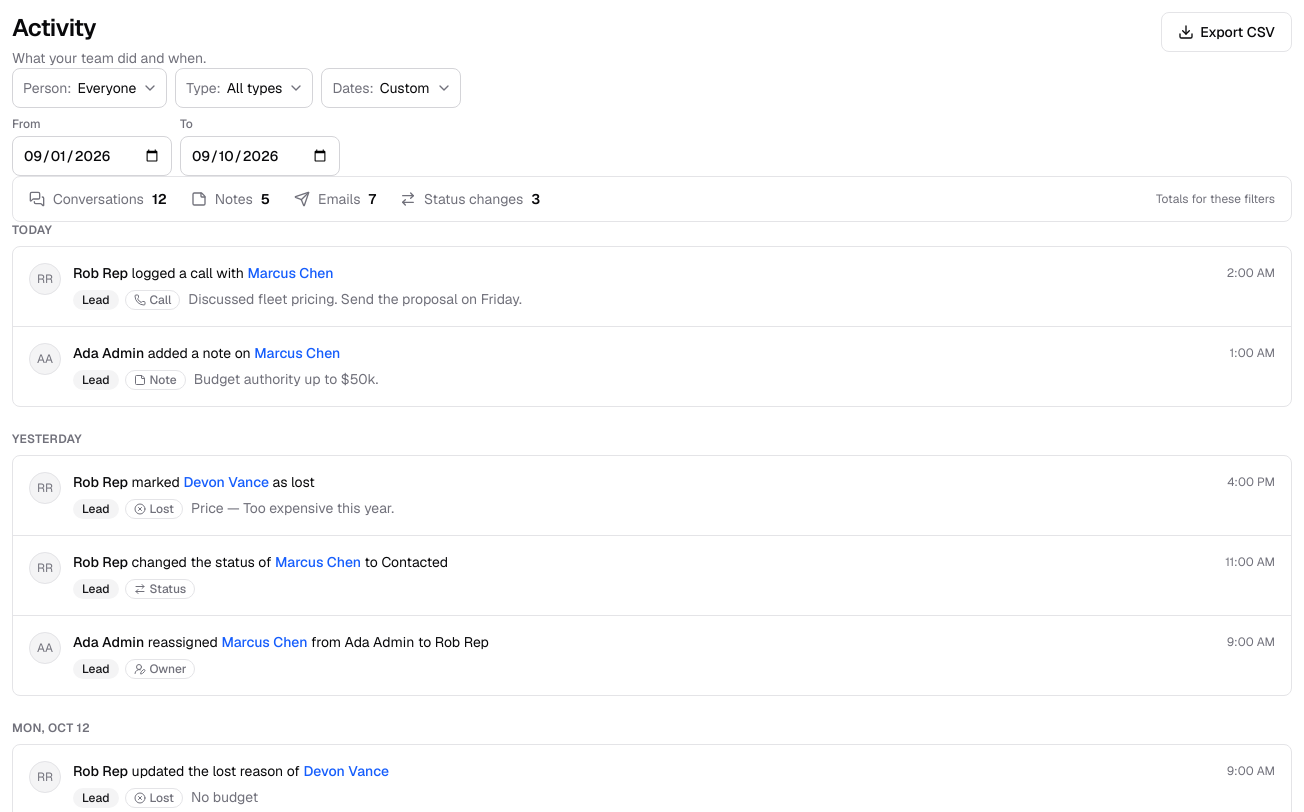
Test: ActivityPage › moves the other date along when the two would be the wrong way round
Type "2026-09-20" into the date field labelled "From". click: (92, 156)
box: [12,136,172,176]
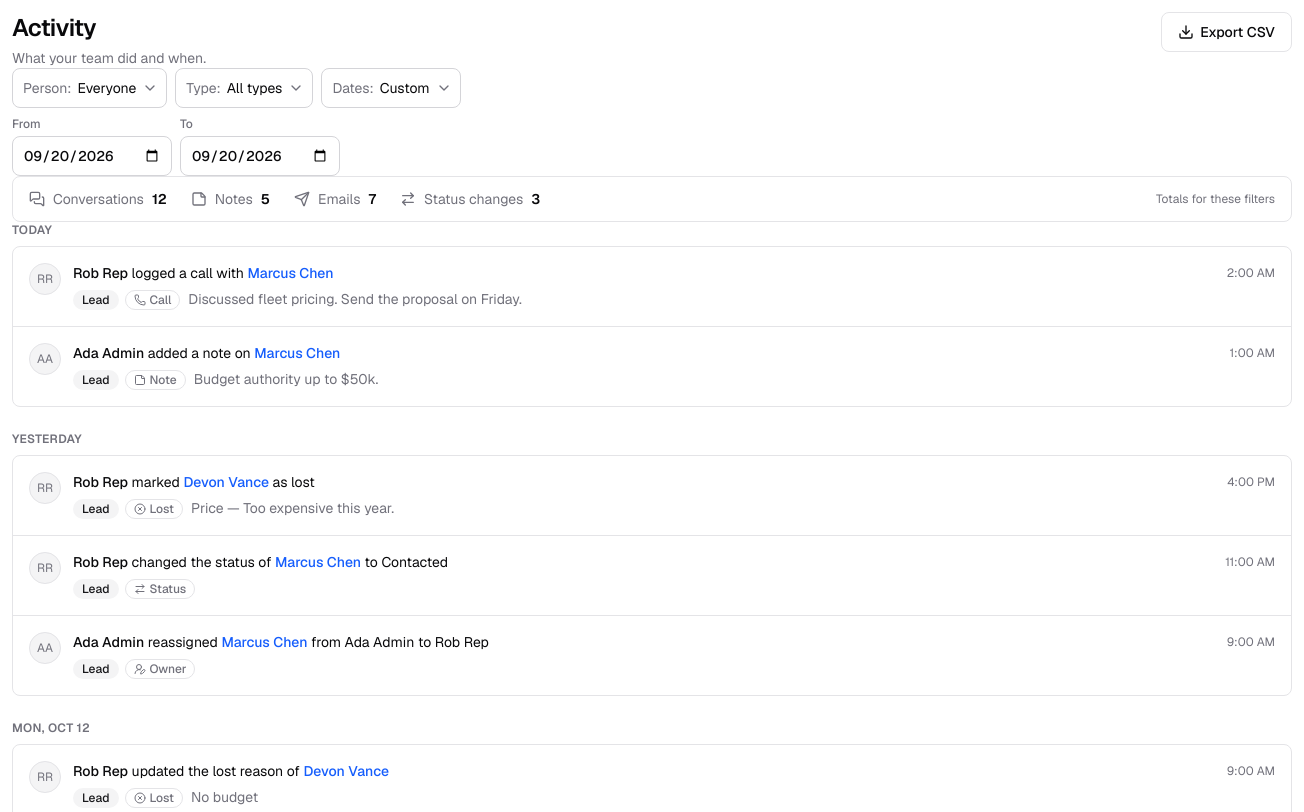
Check: the date field labelled "To" holds "2026-09-20", box [180,136,340,176]
